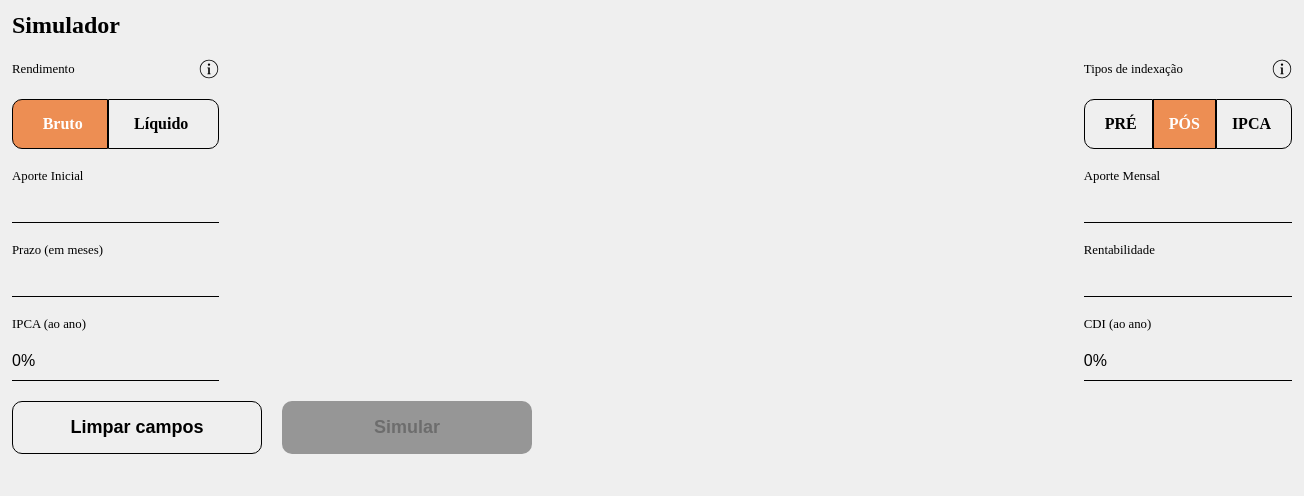
Simulator component › identifies text instead of numeric input on monthlyTransfer as wrong
In the field named "Aporte Mensal": [1188, 208] box [1084,194,1292,223], type "teste"
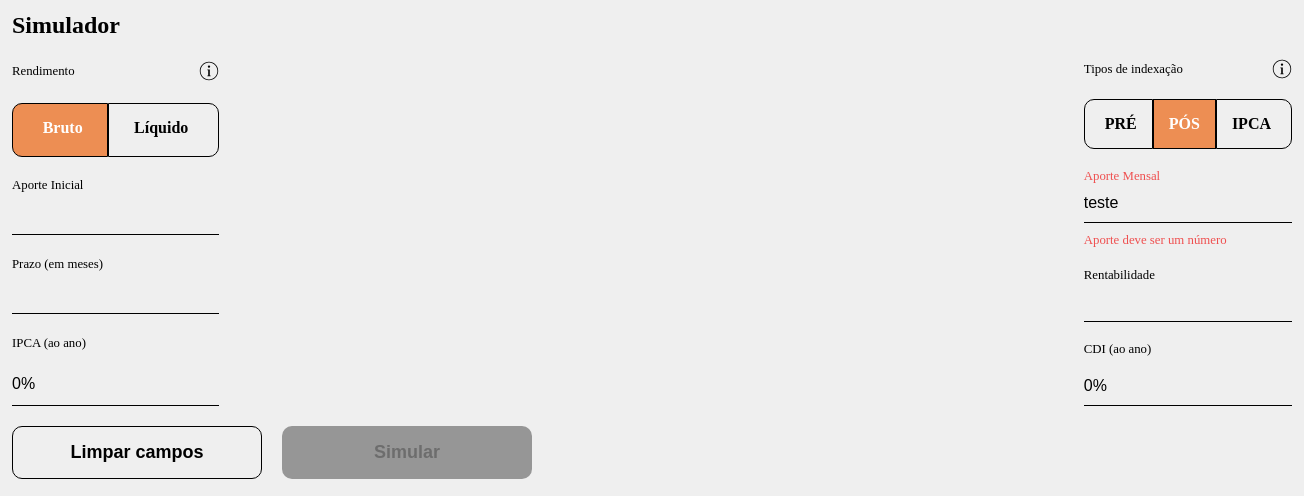
Now the text "Aporte deve ser um número" is shown, box [1084,233,1227,247]
